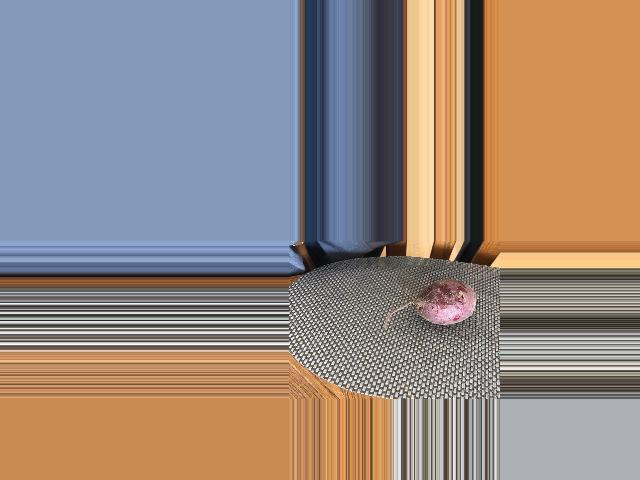beet: (384, 279, 475, 330)
